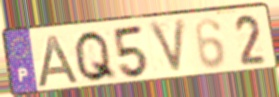2: (233, 13, 268, 67)
5: (111, 23, 151, 81)
6: (193, 17, 228, 72)
A: (36, 33, 82, 89)
Q: (72, 29, 119, 85)
V: (146, 16, 189, 78)
